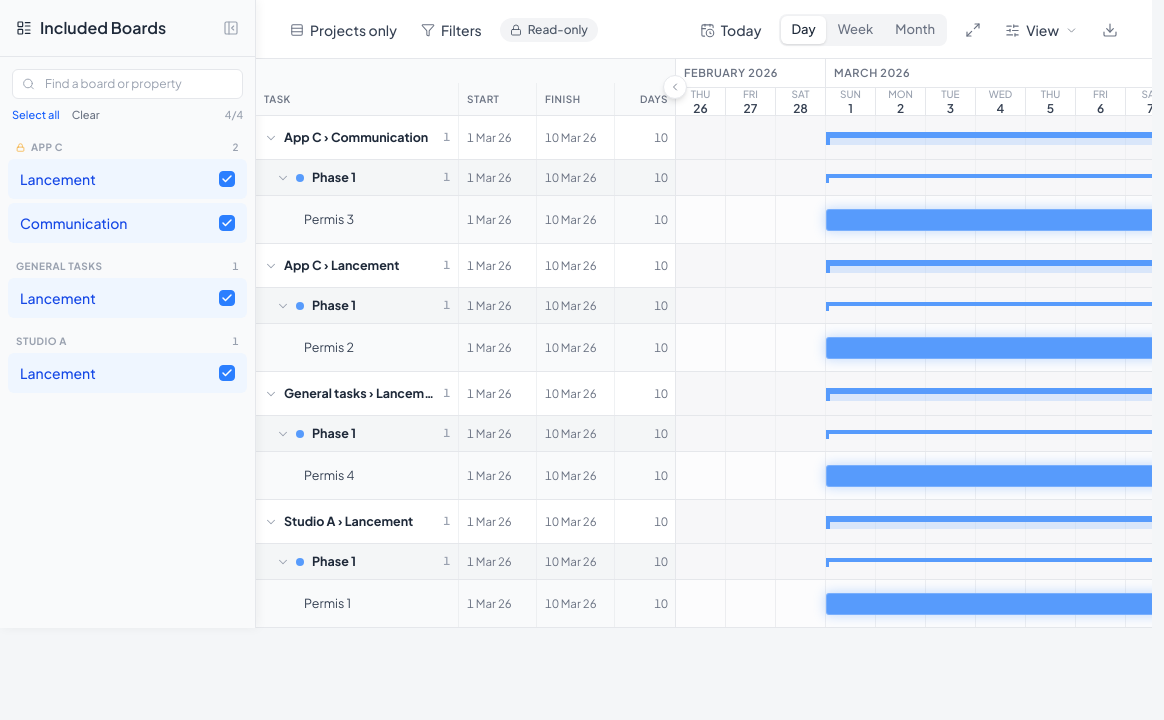
Scenario: WorkspaceGanttView — portfolio swimlanes › drops a board from the chart when it is unticked
The image size is (1164, 720).
Check: the text "Phase 1" is shown 4 times, box [312,168,356,187]; [312,296,356,315]; [312,424,356,443]; [312,552,356,571]
Click the button "Communication" at (128, 222), box [8,202,247,242]
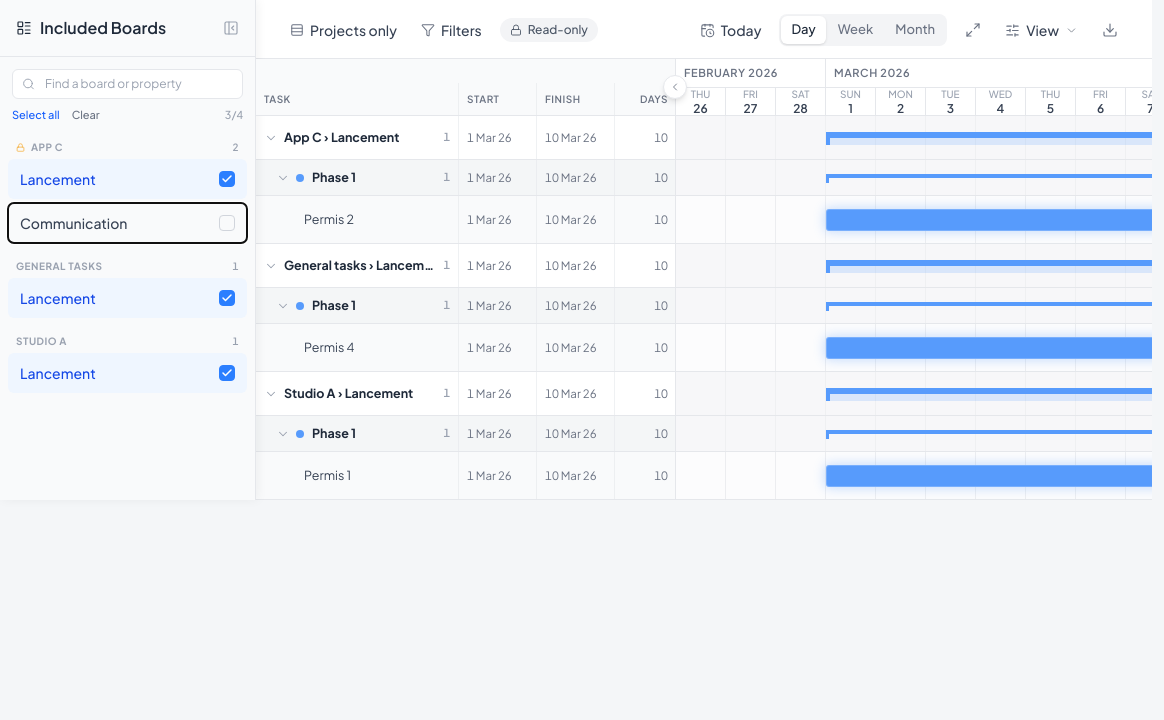
Check: the text "Phase 1" is shown 3 times, box [312,168,356,187]; [312,296,356,315]; [312,424,356,443]
